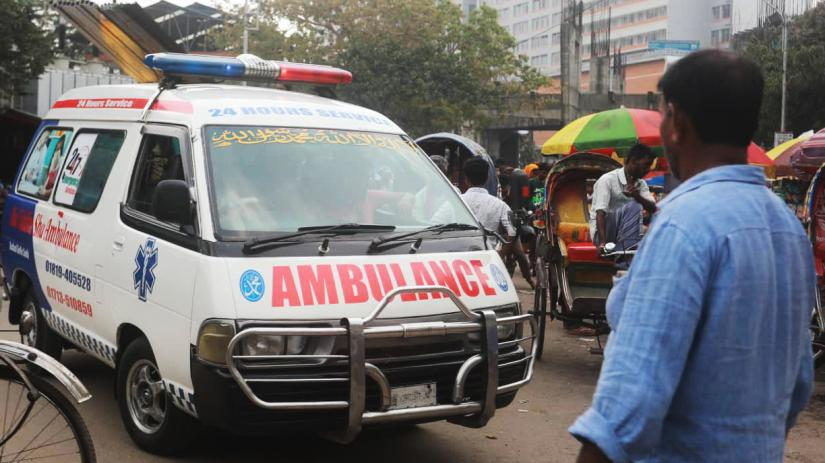ambulance: (5, 53, 540, 449)
rickshaw: (529, 149, 649, 364)
